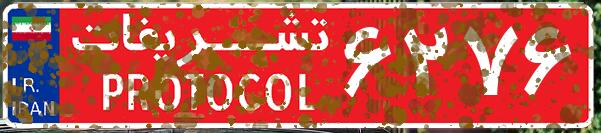2: (400, 20, 460, 115)
6: (340, 20, 400, 115), (520, 20, 580, 115)
7: (460, 20, 520, 115)
تشریفات: (60, 8, 340, 125)
